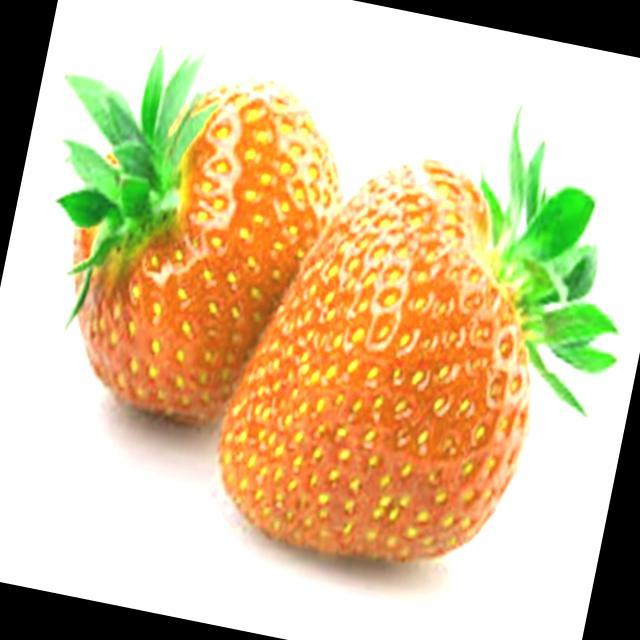strawberry: (220, 124, 616, 561), (59, 51, 338, 423)
